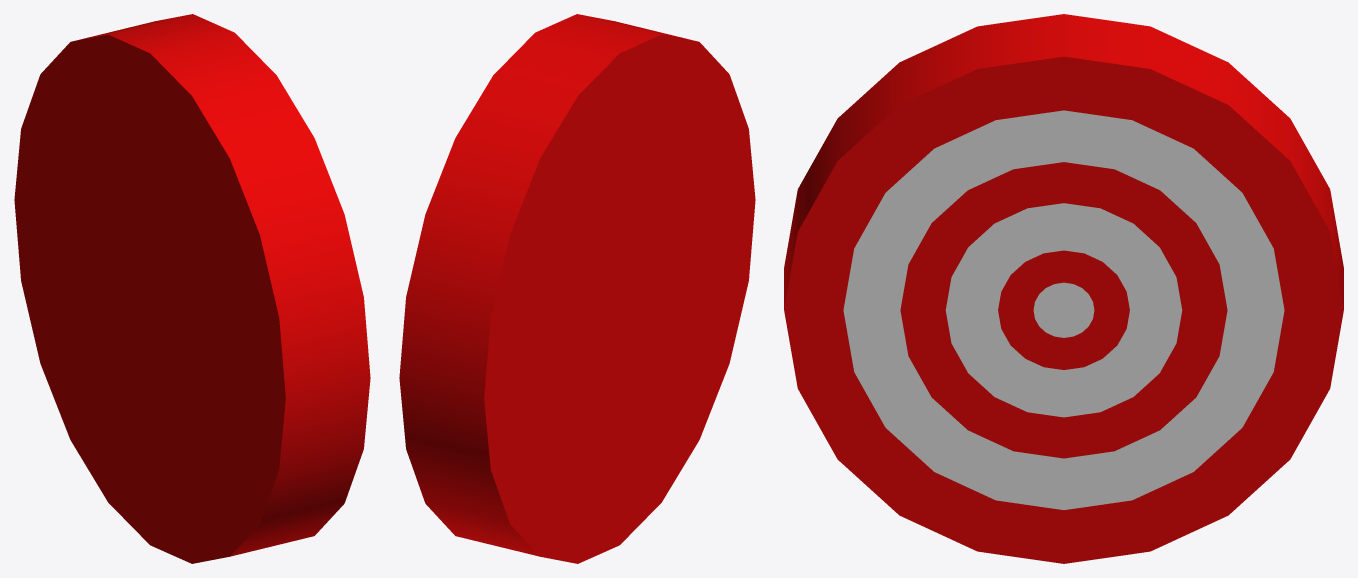
Rendered from target.fbx.
The picture shows the model from 3 angles, left to right: view 1: azimuth 30°, elevation 25°; view 2: azimuth 150°, elevation 25°; view 3: azimuth 270°, elevation 25°; orthographic projection. The views are drawn at different scales.
Visible parts, largest first — view 1: pCylinder1; view 2: pCylinder1; view 3: pCylinder1.
Boxes of the visible parts, x1=… form: pCylinder1: x1=14, y1=14, x2=370, y2=563; pCylinder1: x1=399, y1=14, x2=755, y2=563; pCylinder1: x1=784, y1=14, x2=1343, y2=563.
Bounding box in the file's own units: 0.3603 × 2 × 2.
